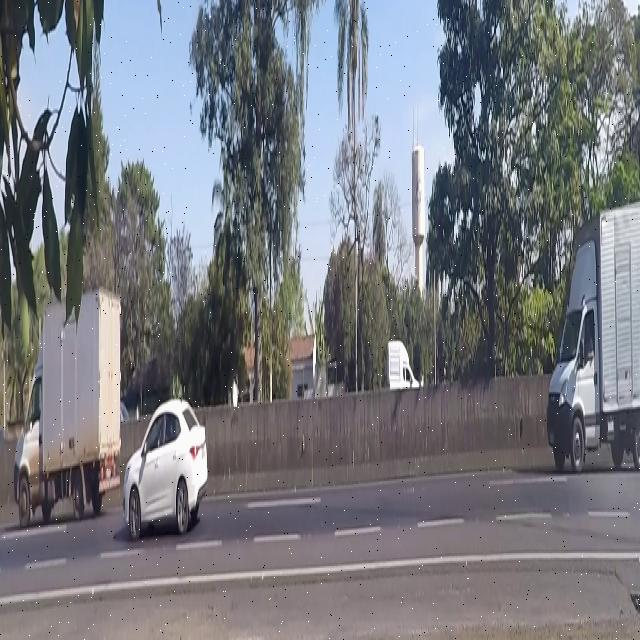-axle: (70, 464, 88, 539), (16, 457, 32, 525), (571, 410, 586, 478)
